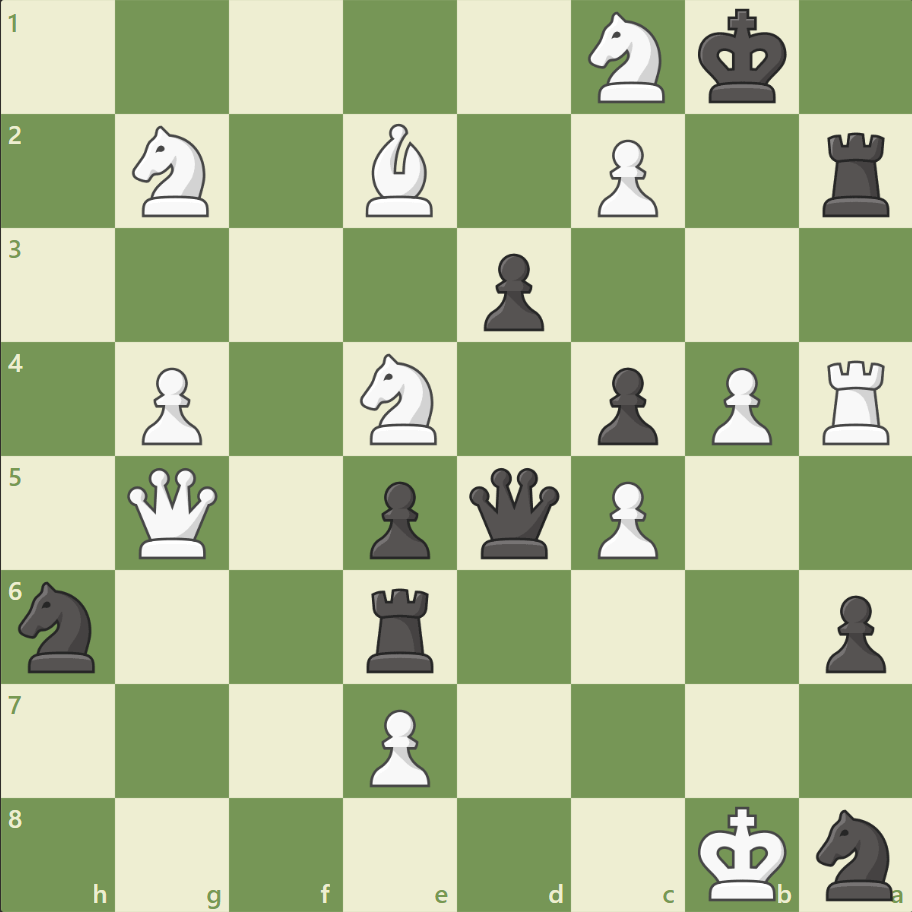B: (358, 120, 442, 222)
K: (692, 798, 792, 906)
N: (351, 348, 449, 450), (124, 121, 222, 223), (579, 7, 676, 110)
P: (701, 359, 776, 450), (133, 359, 208, 450), (361, 700, 435, 791), (588, 473, 662, 564), (588, 132, 662, 223)
Q: (124, 463, 223, 562)
R: (814, 352, 897, 449)
k: (692, 4, 792, 112)
n: (806, 802, 903, 904), (11, 575, 108, 677)
p: (474, 246, 549, 337), (815, 586, 889, 677), (361, 473, 435, 564), (588, 359, 662, 450)
q: (464, 463, 563, 562)
r: (814, 125, 897, 222), (360, 579, 442, 676)
